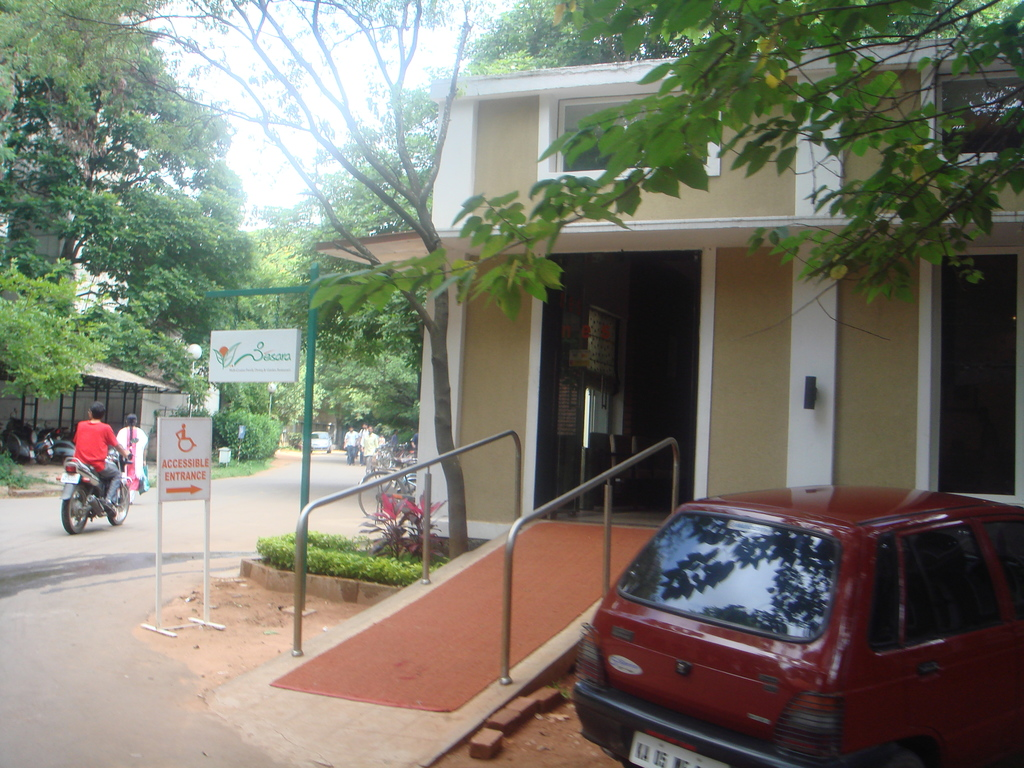Car: (574, 488, 1023, 767), (308, 430, 330, 452)
